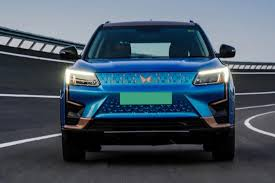XUV 400: (57, 17, 237, 163)
